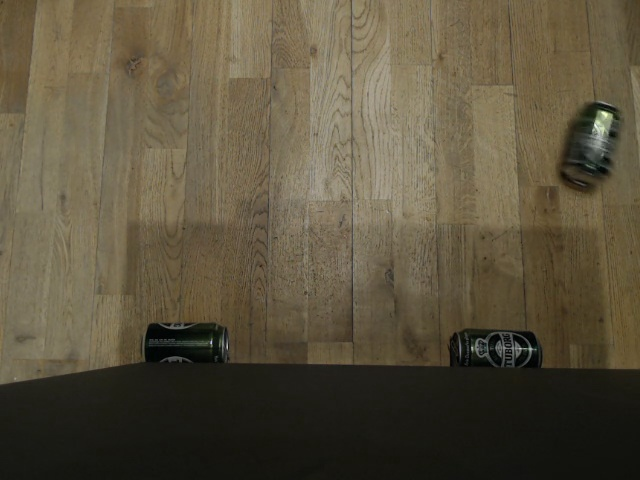beer: (560, 100, 623, 188), (447, 328, 542, 368), (140, 321, 228, 363)
